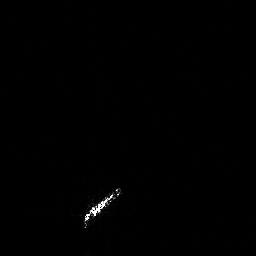ship: (80, 186, 123, 229)
